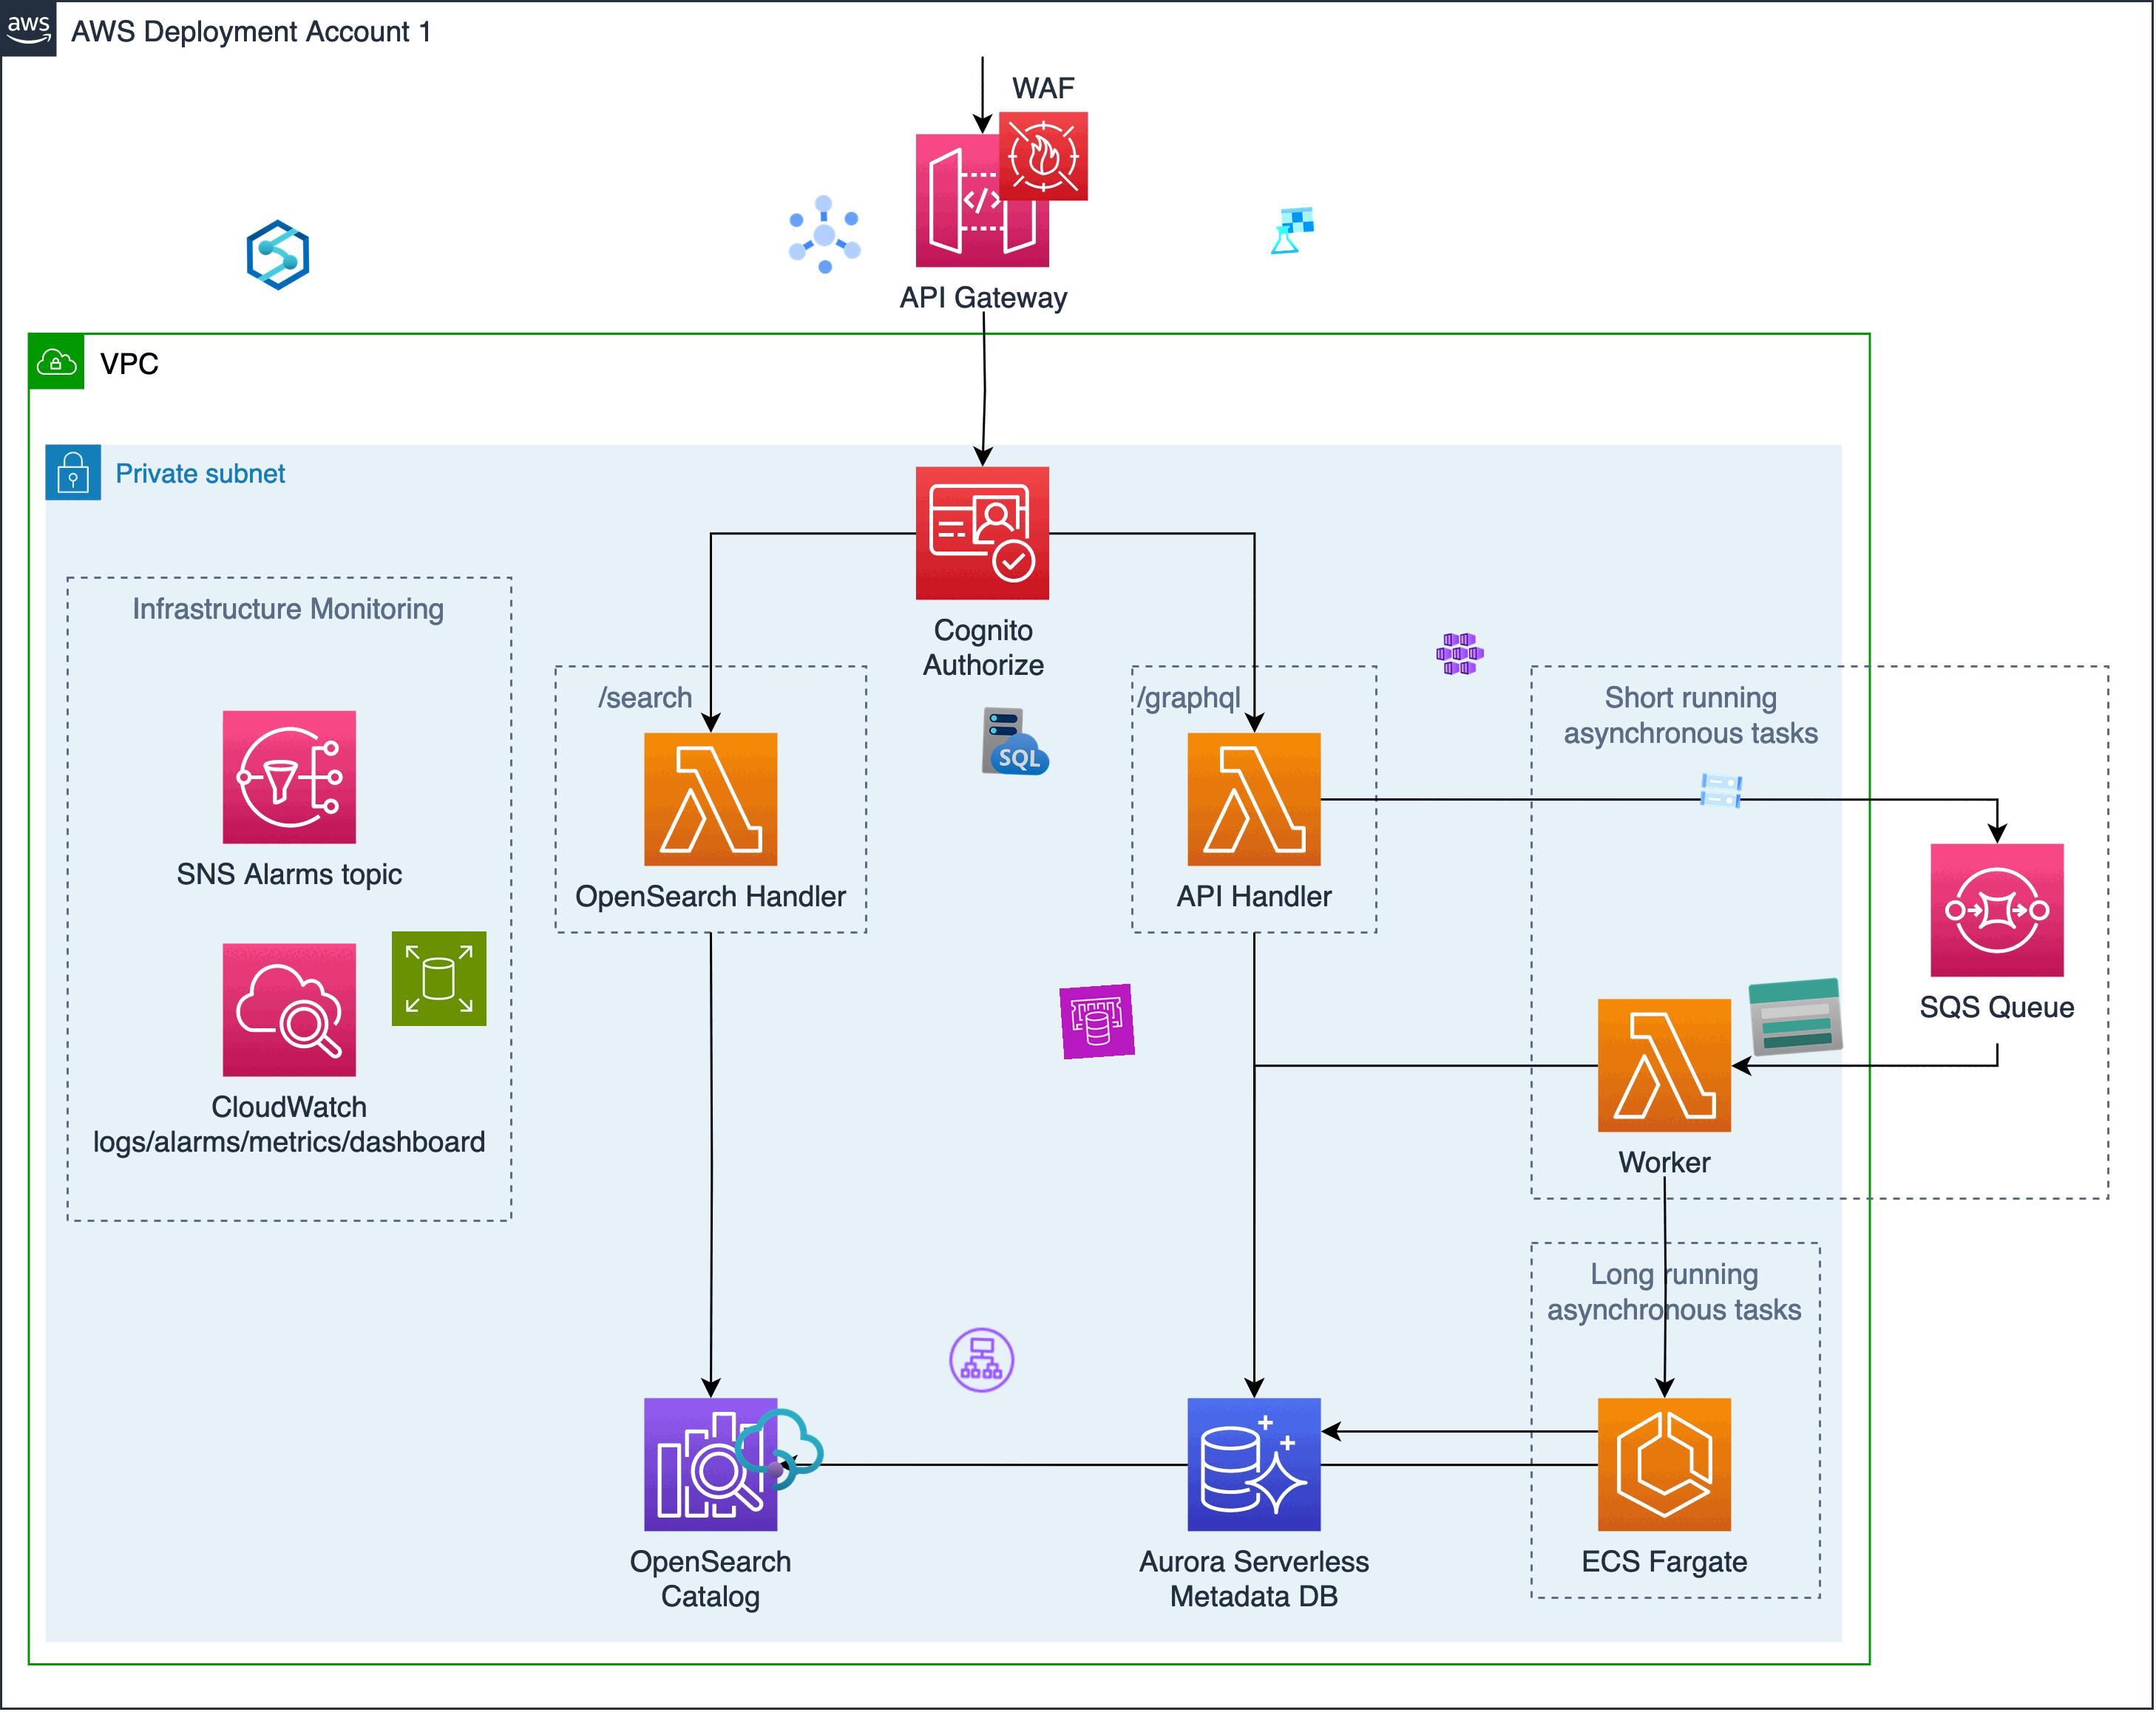aws_amazon_elastic_block_store: (392, 930, 486, 1027)
aws_amazon_elasticache: (1059, 983, 1136, 1060)
aws_elastic_load_balancing_application_load_balancer: (945, 1324, 1019, 1397)
azure_api_management_services: (730, 1401, 829, 1499)
azure_kubernetes_services: (1435, 630, 1484, 679)
azure_machine_learning_studio_workspaces: (1265, 205, 1318, 257)
azure_sql_managed_instance: (980, 705, 1053, 778)
azure_storage_accounts: (1745, 965, 1846, 1068)
azure_synapse_analytics: (241, 219, 315, 292)
gcp_cloud_storage: (1696, 766, 1746, 817)
gcp_pubsub: (775, 185, 873, 283)
